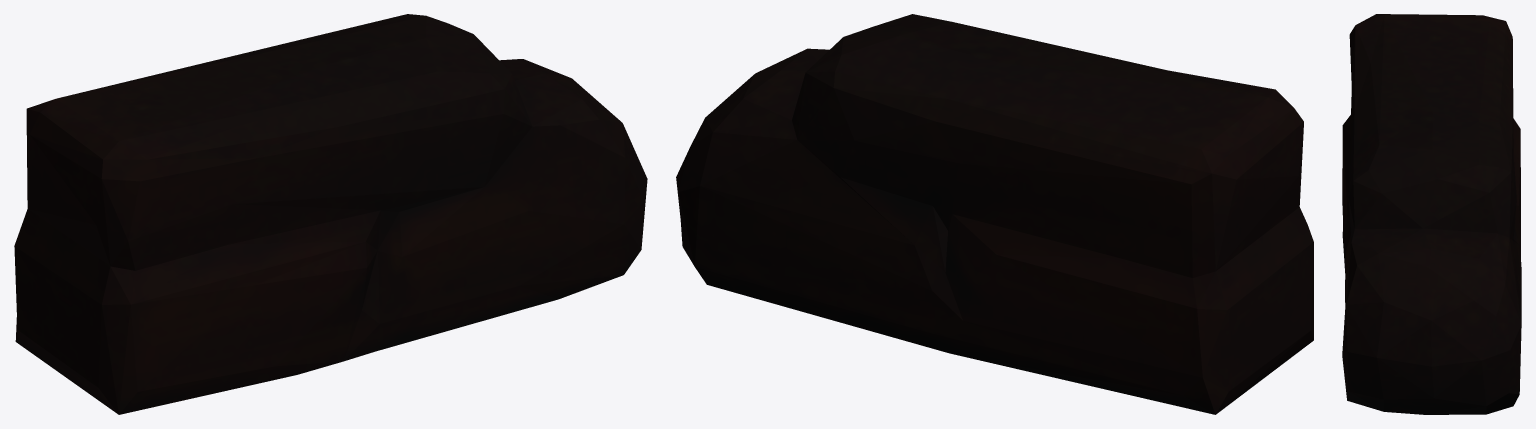
3 renders of one model, left to right at view 1: azimuth 30°, elevation 25°; view 2: azimuth 150°, elevation 25°; view 3: azimuth 270°, elevation 25°, orthographic. The views are drawn at different scales.
Parts seen in each view (by area): view 1: geometry_0.049_Baked; view 2: geometry_0.049_Baked; view 3: geometry_0.049_Baked.
Boxes of the visible parts, box(x1,y1,x2,y2) form: geometry_0.049_Baked: box(14, 14, 647, 414); geometry_0.049_Baked: box(676, 14, 1313, 414); geometry_0.049_Baked: box(1342, 14, 1521, 414).
Bounding box in the file's own units: 14.85 × 6.49 × 4.97.
